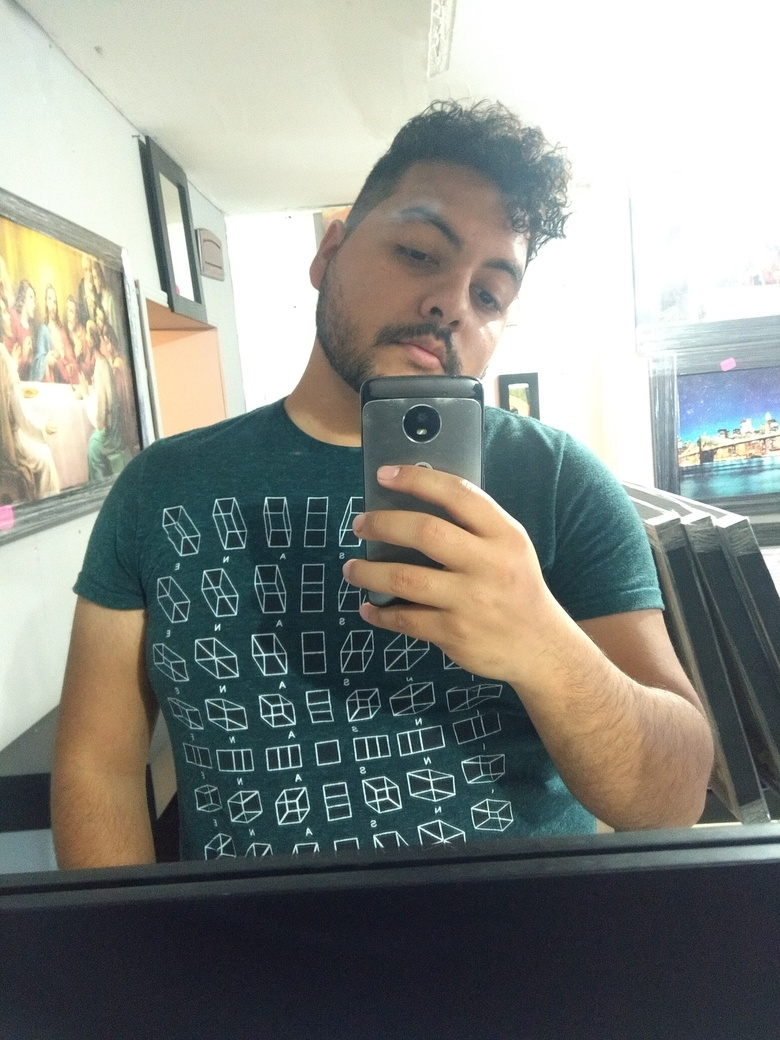Yoshi: (273, 68, 554, 430)
